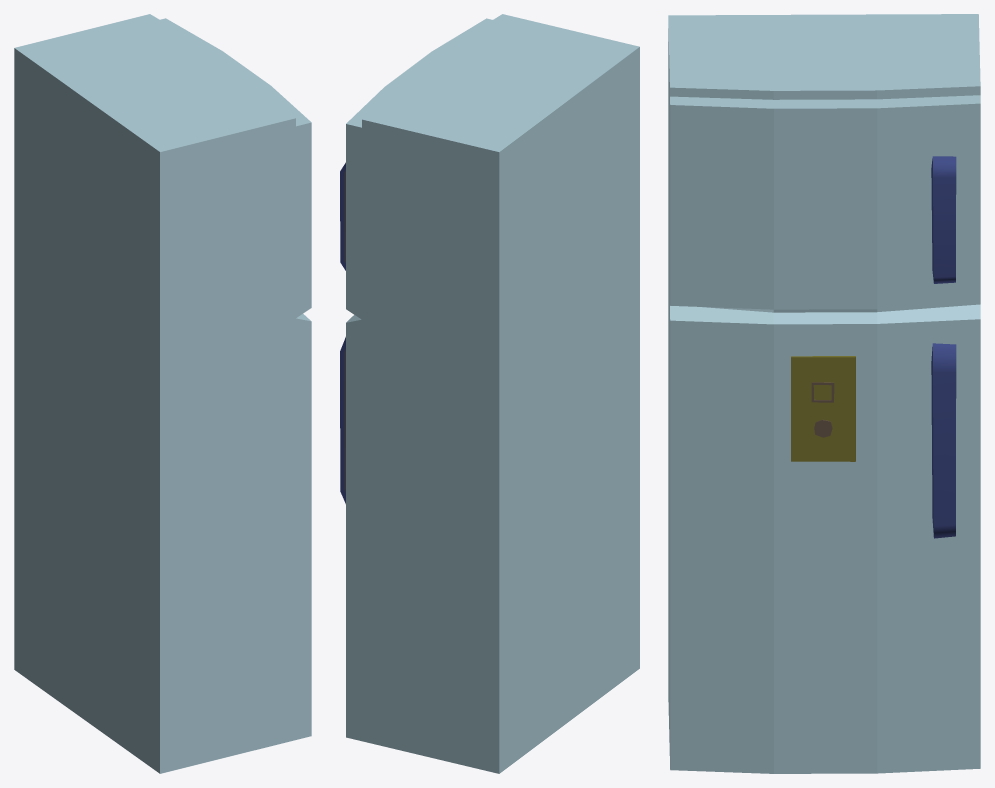
The model's file is Kitchen_2_Fridge.fbx.
The picture shows the model from 3 angles, left to right: view 1: azimuth 30°, elevation 25°; view 2: azimuth 150°, elevation 25°; view 3: azimuth 270°, elevation 25°; orthographic projection. The views are drawn at different scales.
Parts seen in each view (by area): view 1: Kitchen_2_Fridge; view 2: Kitchen_2_Fridge; view 3: Kitchen_2_Fridge.
Boxes of the visible parts, bbox=[...] form: Kitchen_2_Fridge: bbox=[14, 14, 311, 773]; Kitchen_2_Fridge: bbox=[340, 14, 639, 773]; Kitchen_2_Fridge: bbox=[668, 14, 980, 773].
Bounding box in the file's own units: 88.3 × 307 × 129.
